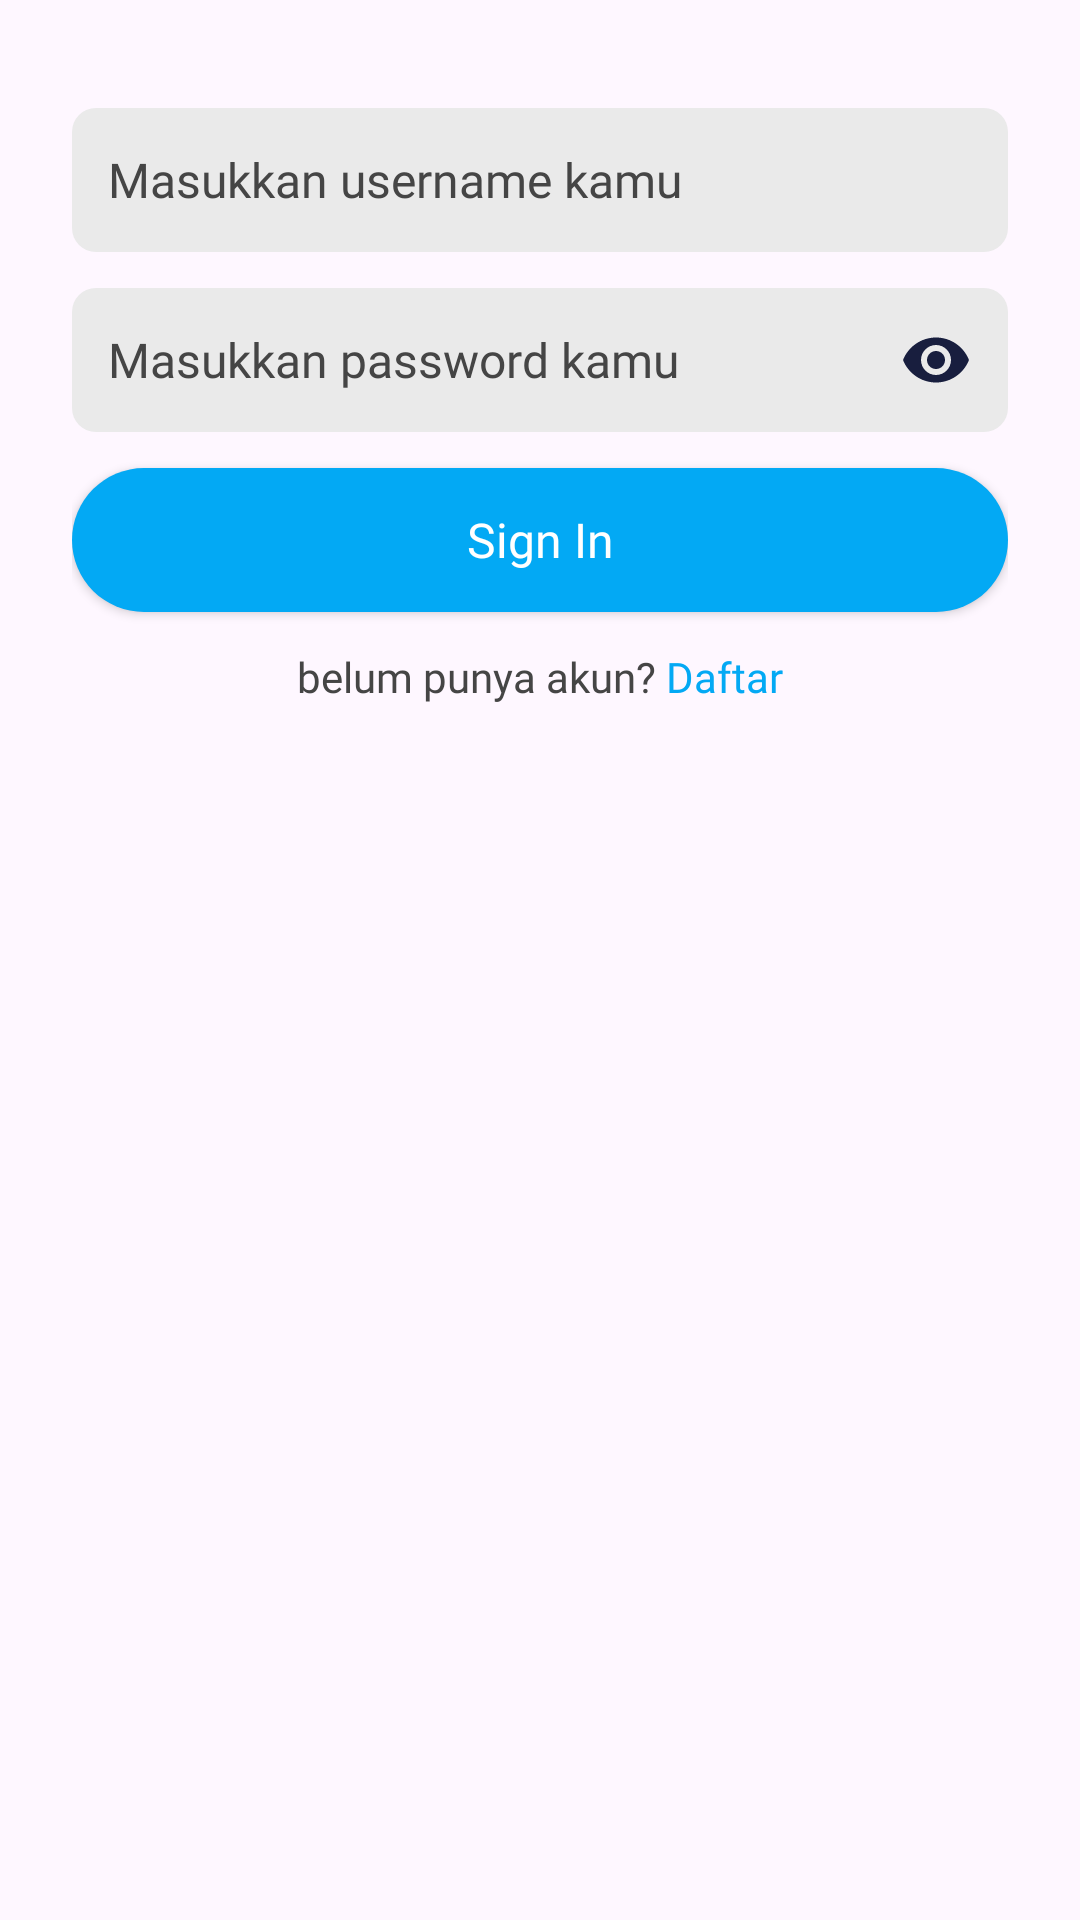

Icon bounding boxes for this 1080px×1920px phone screenshot, format bbox(x1, y1, x2, y2):
show: bbox(903, 337, 969, 383)
